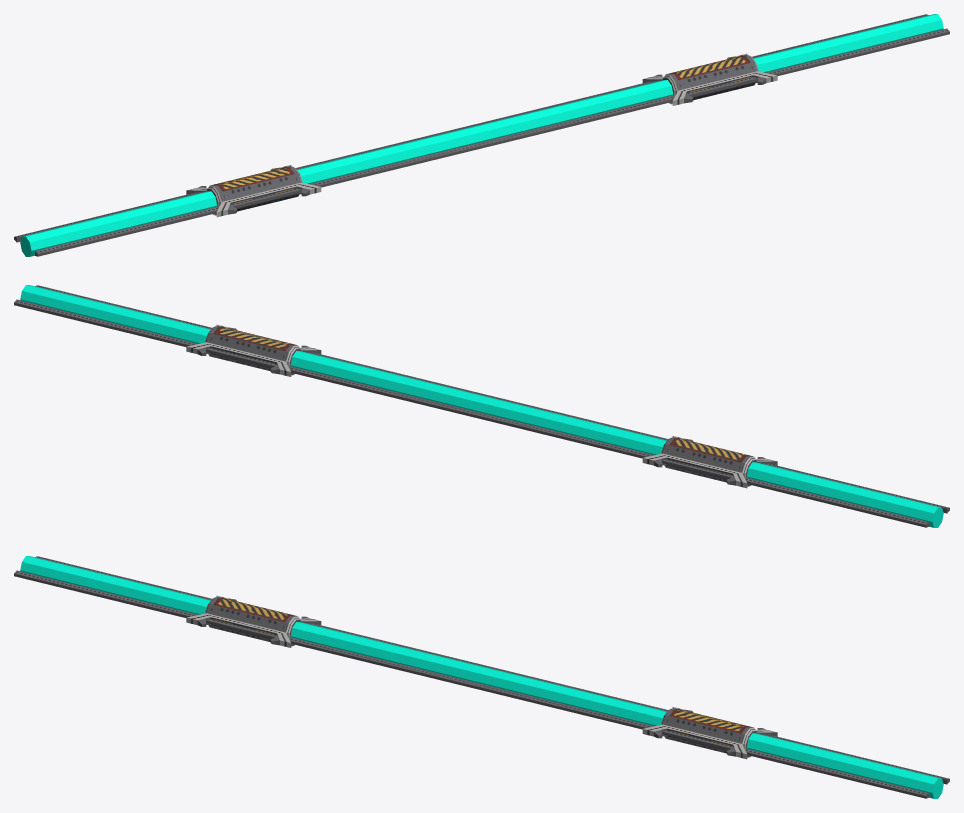
The model's file is SM_Bld_Train_Rail_Straight_01.fbx.
The picture shows the model from 3 angles, top to bottom: view 1: azimuth 30°, elevation 25°; view 2: azimuth 150°, elevation 25°; view 3: azimuth 330°, elevation 25°; orthographic projection.
Parts seen in each view (by area): view 1: SM_Bld_Train_Rail_Straight_01; view 2: SM_Bld_Train_Rail_Straight_01; view 3: SM_Bld_Train_Rail_Straight_01.
Part boxes in pixels (x1,y1,x2,y2): SM_Bld_Train_Rail_Straight_01: (14,14,949,256); SM_Bld_Train_Rail_Straight_01: (14,285,949,527); SM_Bld_Train_Rail_Straight_01: (14,556,949,798).
Bounding box in the file's own units: 2500 × 76.14 × 162.
